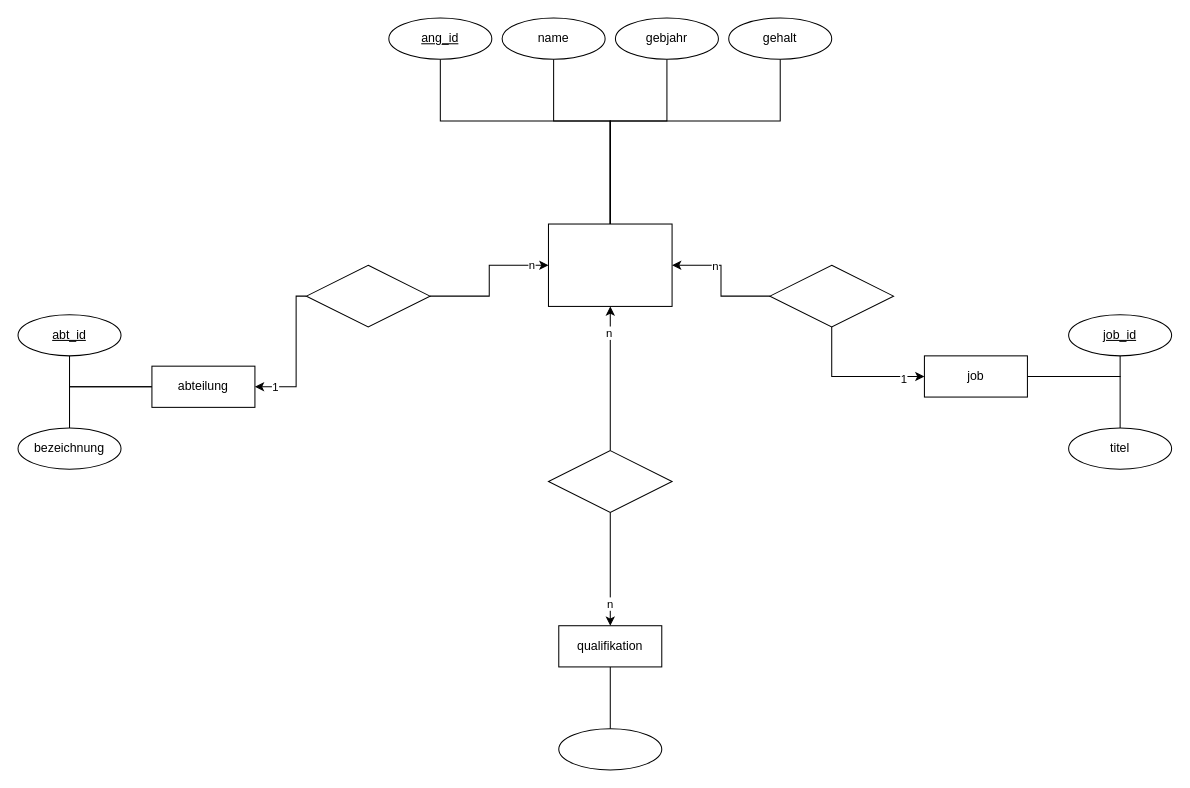
The diagram is 1190 pixels wide and 788 high, and some of its shapes have lost their labels. Each missing label, with the box of its shape:
gehört zu: (305, 264, 430, 327)
hat einen: (769, 264, 894, 327)
mitarbeiter: (547, 223, 672, 306)
quali: (558, 728, 662, 770)
Relationship: (547, 450, 672, 512)
